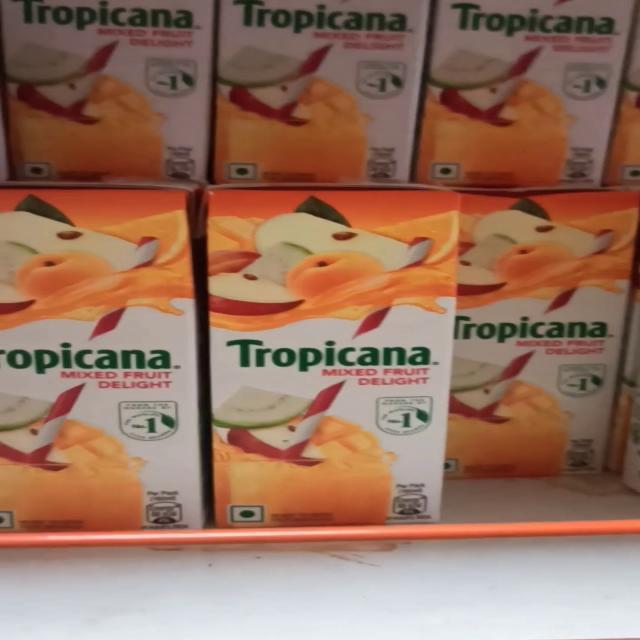Tropicana: (211, 186, 456, 532), (448, 196, 638, 487), (418, 0, 626, 180), (218, 0, 418, 180)
